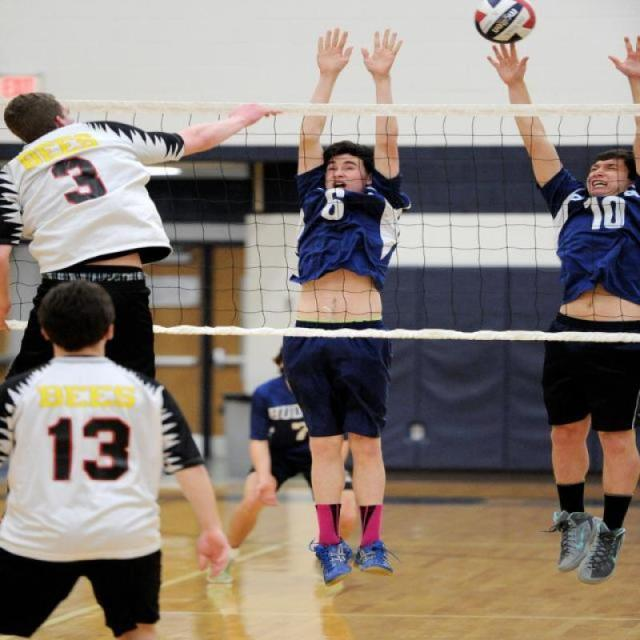volleyball: (473, 0, 540, 43)
